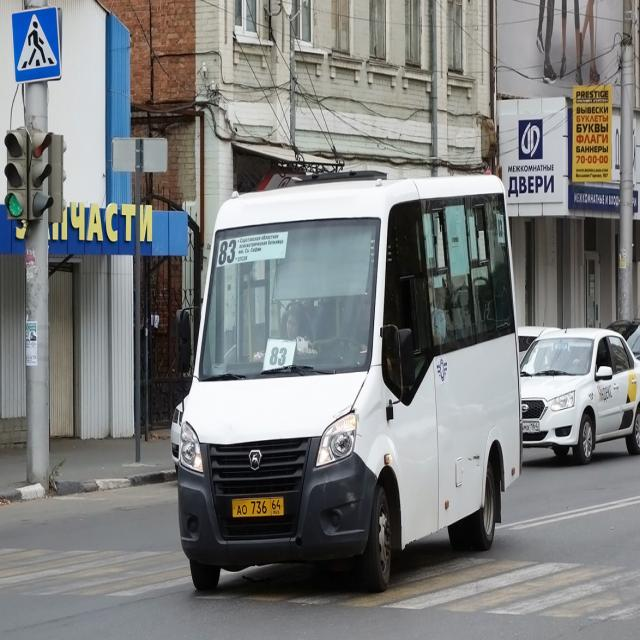number-of-bus: (267, 342, 292, 370), (219, 241, 239, 266)
